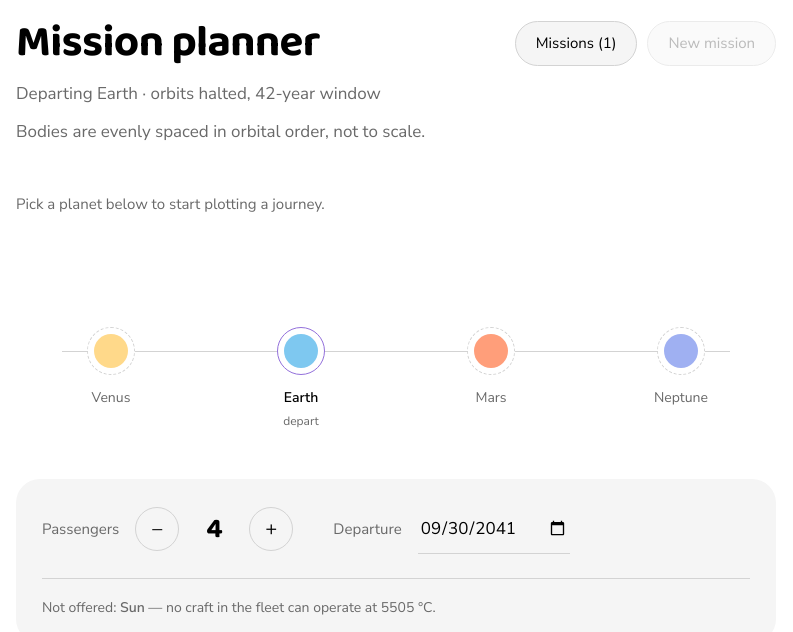
Test: planner screen › removes a saved mission
Click the link "Missions (1)" at (576, 43), box [515,21,638,66]
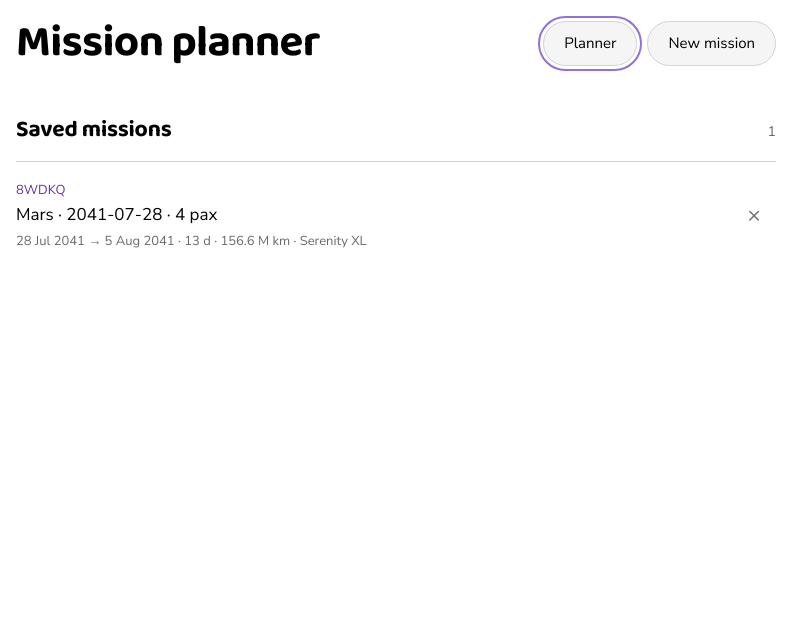
Click the button named "Delete mission" at (754, 215), box [732,193,776,237]
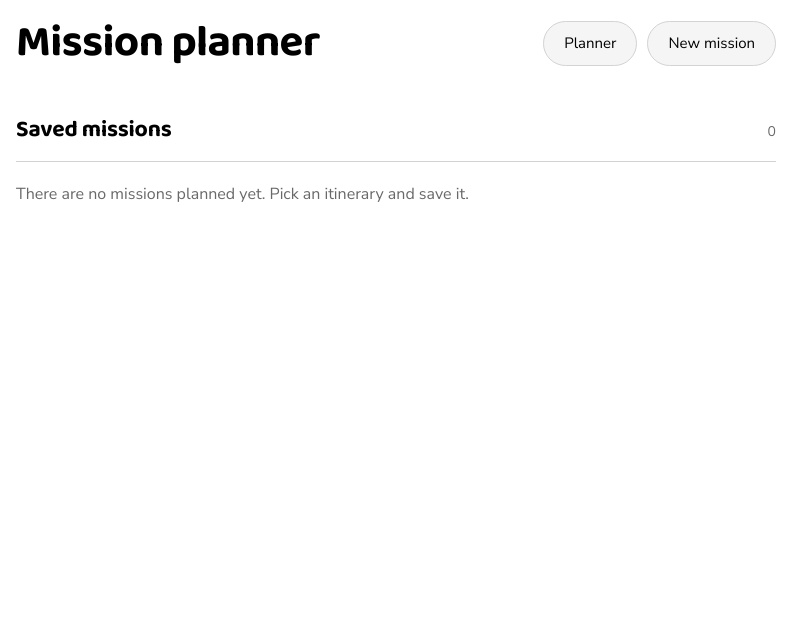
Result: the button "Mars · 2041-07-28 · 4 pax" is gone
